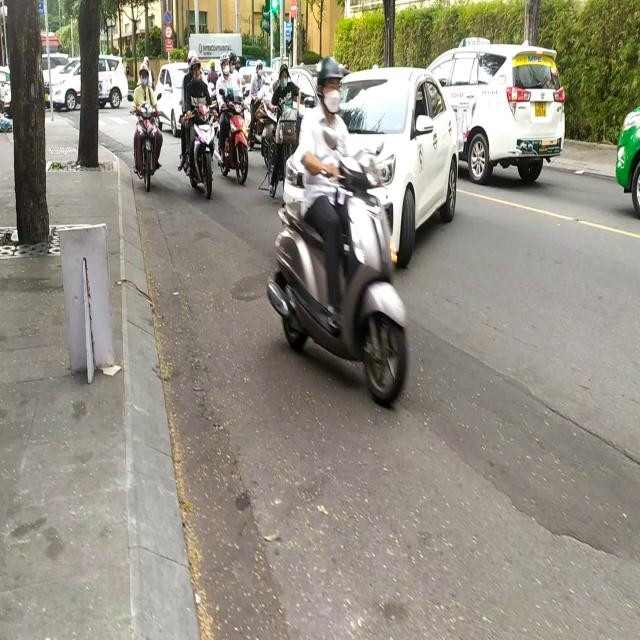bien_vang: (533, 98, 547, 121)
